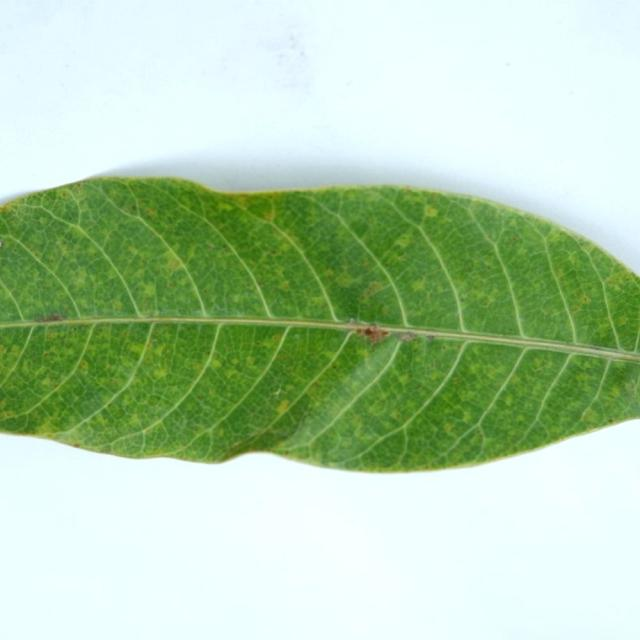Mango: (0, 178, 639, 471)
Powdery_Mildew: (148, 245, 200, 280), (565, 293, 596, 316), (412, 203, 449, 220), (391, 230, 414, 249), (360, 281, 384, 299), (273, 398, 293, 417), (35, 421, 60, 436), (334, 274, 356, 287), (141, 282, 157, 298), (581, 409, 599, 423), (532, 359, 550, 373), (262, 206, 277, 222), (73, 272, 88, 288), (129, 343, 147, 356), (410, 279, 427, 292), (217, 201, 235, 213), (481, 292, 496, 305), (153, 367, 169, 379), (461, 409, 474, 422), (397, 373, 410, 385), (355, 346, 368, 358), (209, 358, 223, 369), (468, 364, 482, 375), (606, 276, 621, 286), (443, 423, 456, 434), (2, 410, 17, 419), (111, 299, 123, 310), (503, 395, 515, 406), (72, 183, 84, 194), (578, 294, 591, 304), (576, 373, 589, 383), (146, 208, 158, 218), (41, 376, 53, 386), (324, 268, 335, 278), (390, 410, 401, 420), (279, 281, 291, 290), (246, 356, 256, 366), (79, 360, 89, 370), (617, 317, 629, 325), (39, 216, 49, 225), (556, 267, 565, 276), (11, 346, 20, 355), (273, 387, 282, 396), (571, 305, 580, 313), (231, 358, 239, 366), (481, 300, 490, 307), (218, 428, 225, 437), (582, 414, 591, 421), (206, 242, 216, 248), (142, 428, 149, 436), (222, 247, 230, 254), (195, 426, 204, 432), (60, 191, 67, 198), (249, 284, 256, 291), (106, 402, 113, 409), (73, 443, 81, 448), (270, 250, 276, 255)
